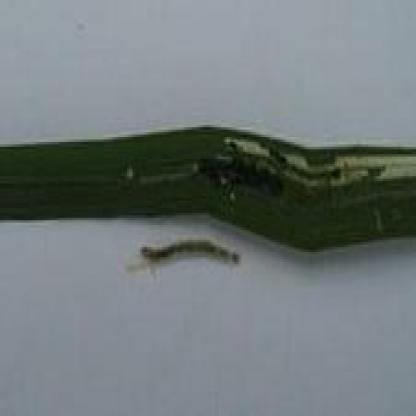leaf-folder: (127, 223, 250, 276)
